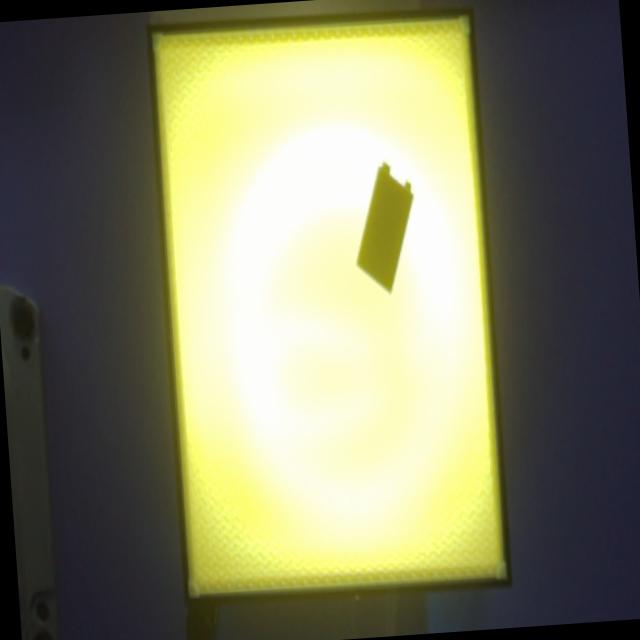bateria: (355, 162, 414, 294)
mesa: (146, 6, 511, 607)
